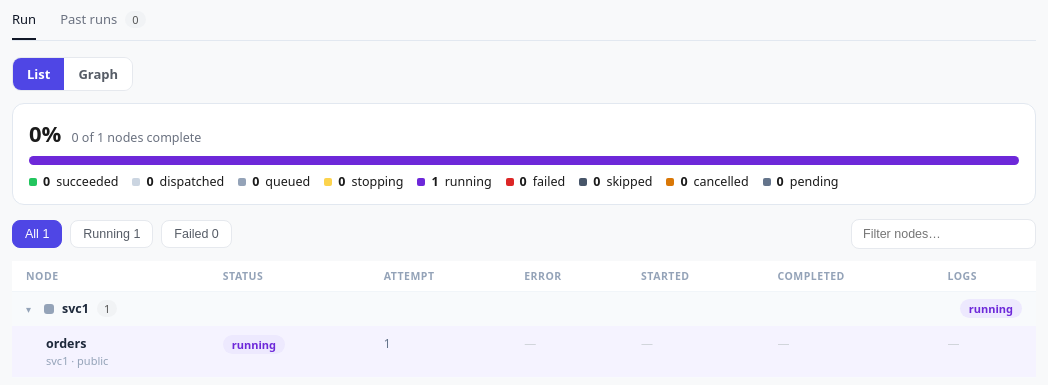
RunView › switches to the swimlane with the Graph toggle
The width and height of the screenshot is (1048, 385).
Click the button "Graph" at (98, 74), box [64,58,132,90]
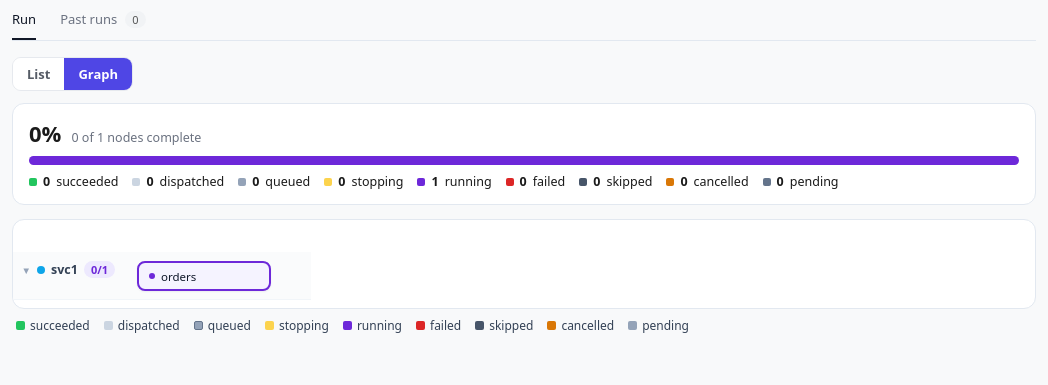
Check: the element with class "swim-node" is shown, box [137,261,271,291]
Click the button "List" at (39, 74), box [13,58,64,90]
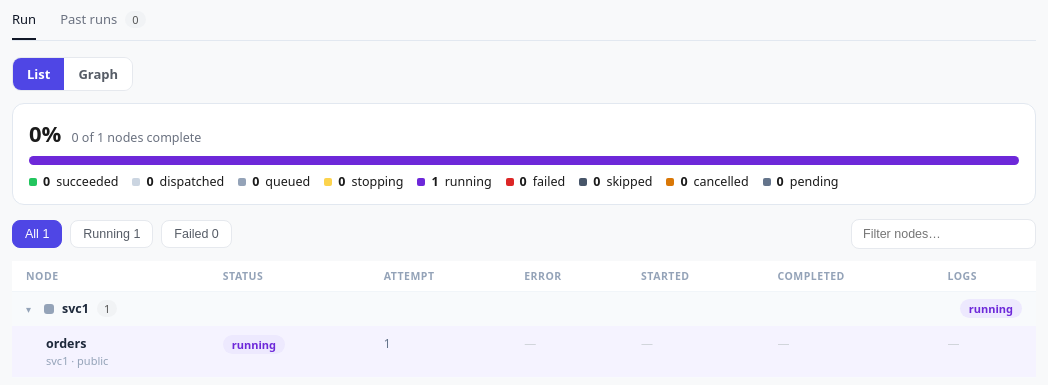
Check: the element with class "swim-node" is gone
